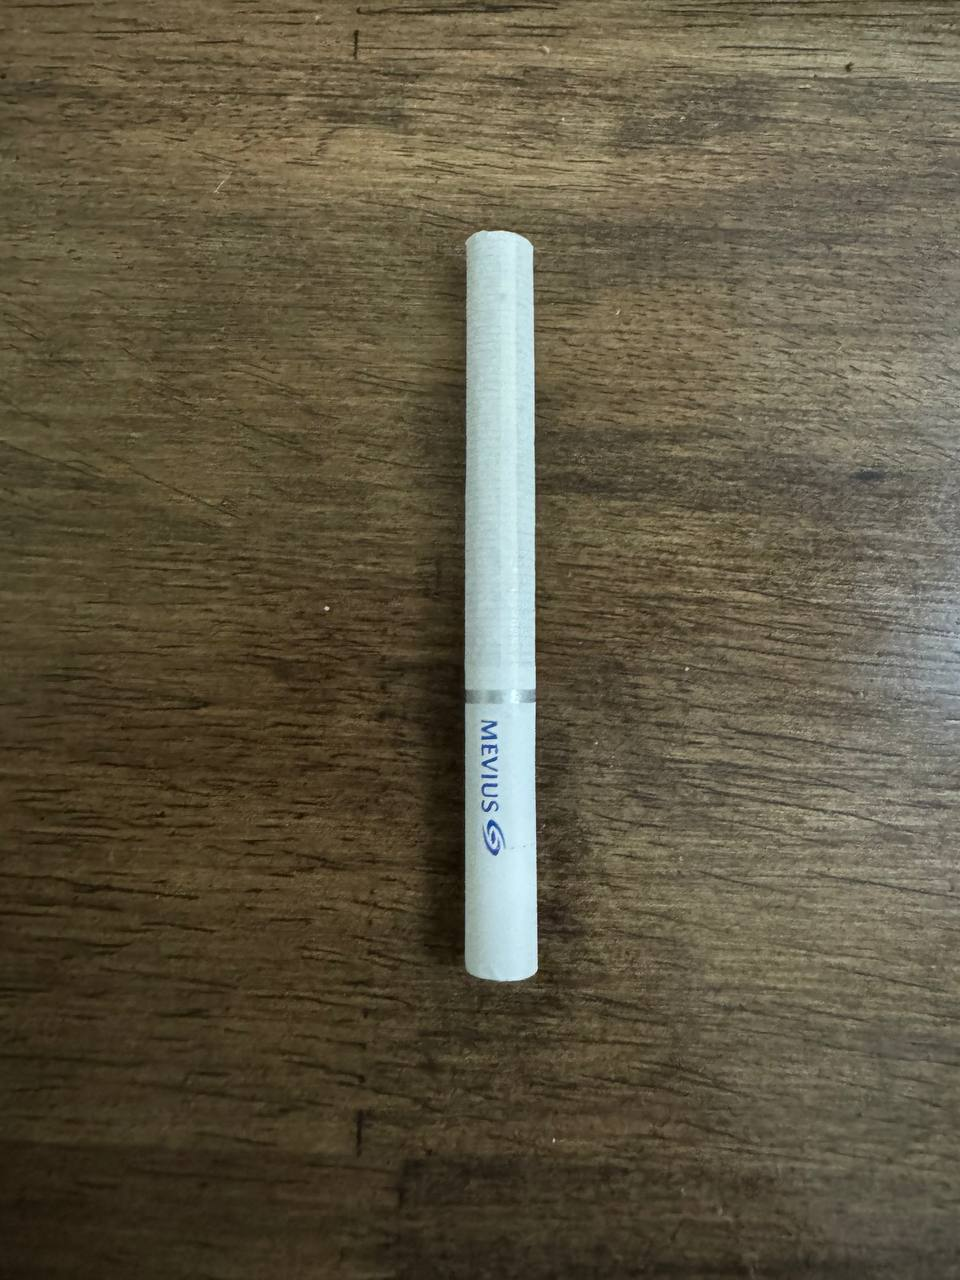trash: (441, 219, 556, 990)
